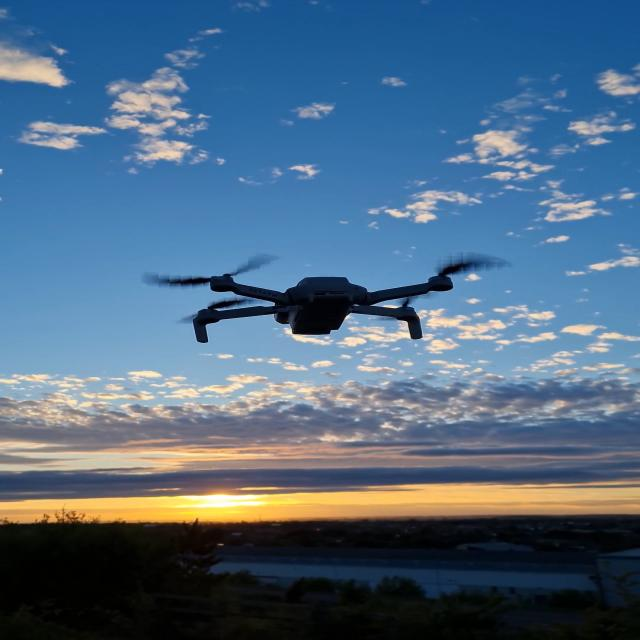Drone: (158, 266, 482, 343)
